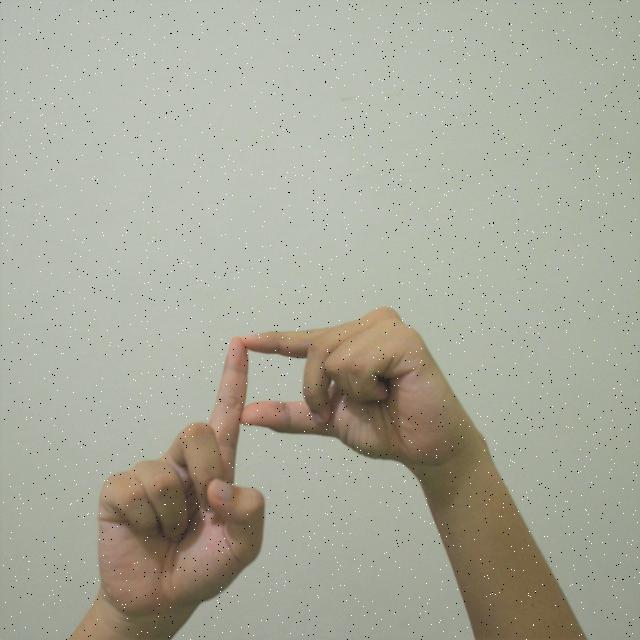P: (81, 257, 537, 608)
